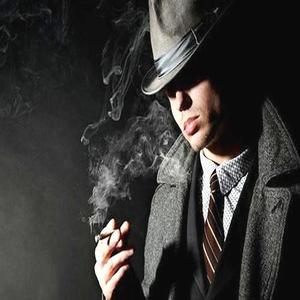cigarette: (94, 230, 115, 242)
